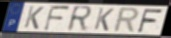F: (42, 5, 71, 32), (136, 8, 165, 34)
K: (92, 7, 116, 33), (22, 5, 46, 31)
R: (66, 5, 95, 33), (111, 7, 141, 34)
